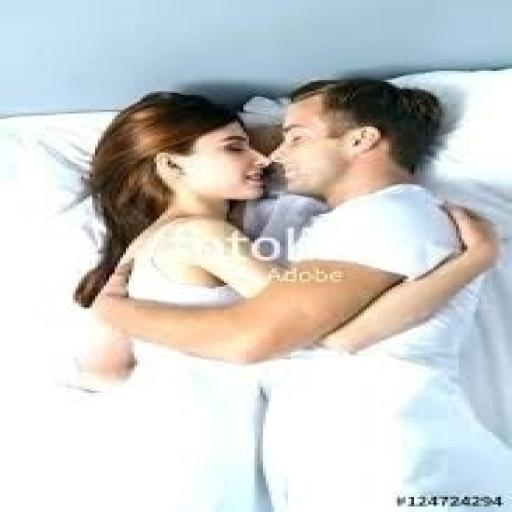hugging: (70, 76, 509, 510)
